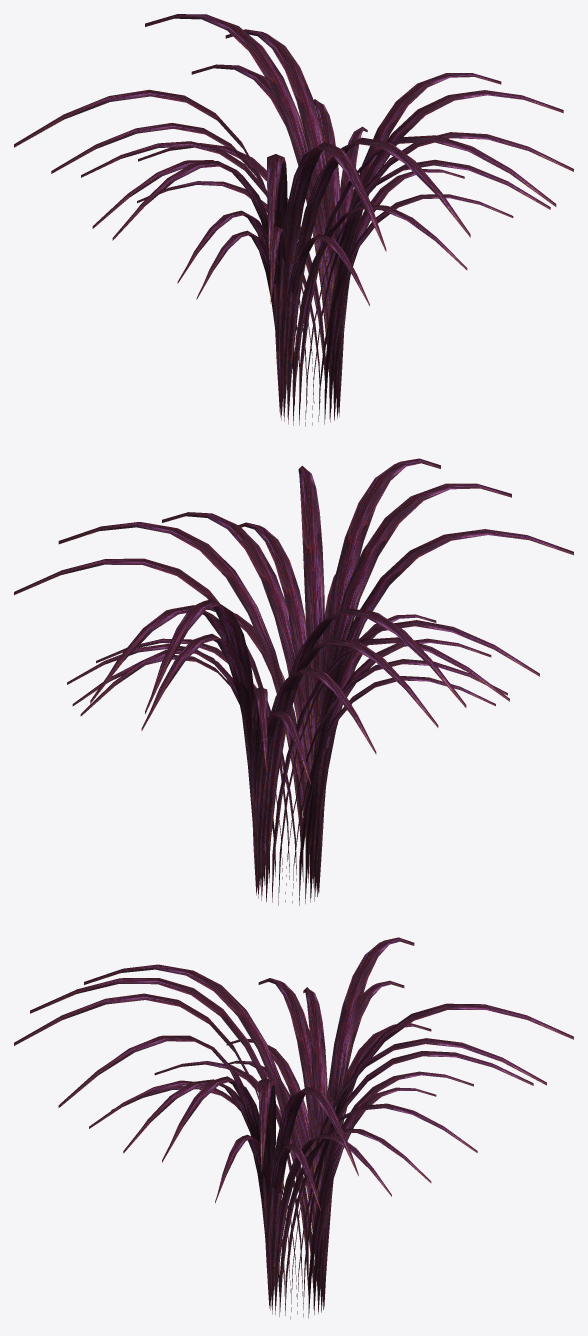
Rendered from finegrass_meadow_05.glb.
3 views of the same model, one above another, from view 1: azimuth 30°, elevation 25°; view 2: azimuth 150°, elevation 25°; view 3: azimuth 270°, elevation 25° (orthographic). The views are drawn at different scales.
Visible parts, largest first — view 1: export; view 2: export; view 3: export.
Boxes of the visible parts, left/top/right/bottom form: export: left=14, top=14, right=573, bottom=426; export: left=14, top=458, right=573, bottom=905; export: left=14, top=937, right=573, bottom=1319.
Size of the model in its own units: 1.46 by 1.01 by 1.63.
1 material, 1 textured.
